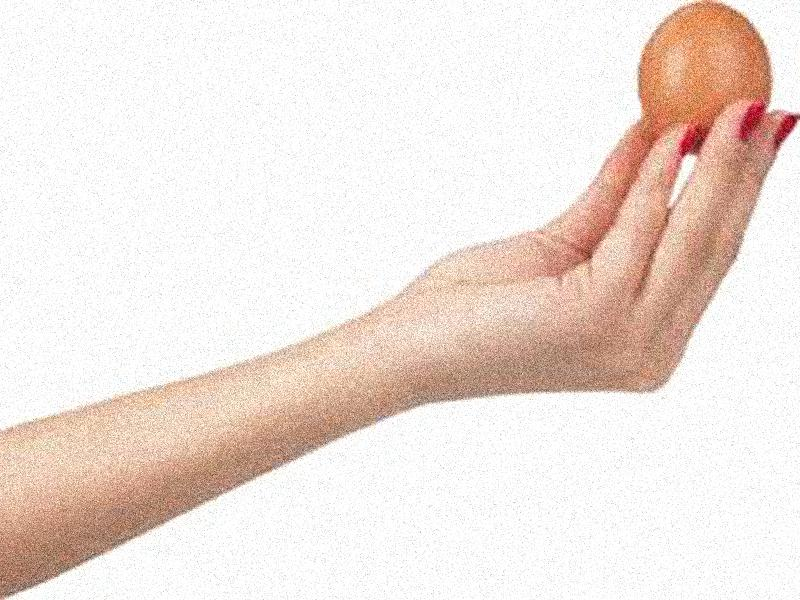Eggs: (637, 3, 773, 150)
